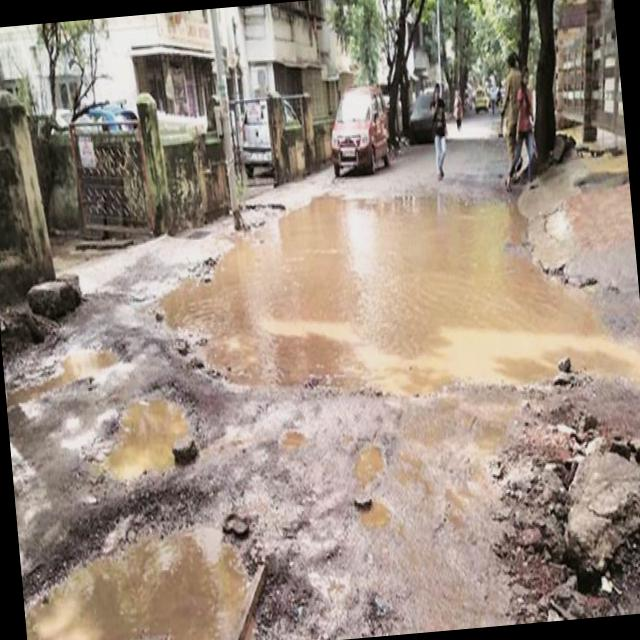bad-road: (140, 171, 640, 419), (17, 515, 262, 640), (88, 380, 208, 486), (1, 336, 130, 407), (348, 444, 388, 488), (354, 498, 392, 530), (280, 425, 310, 447)
